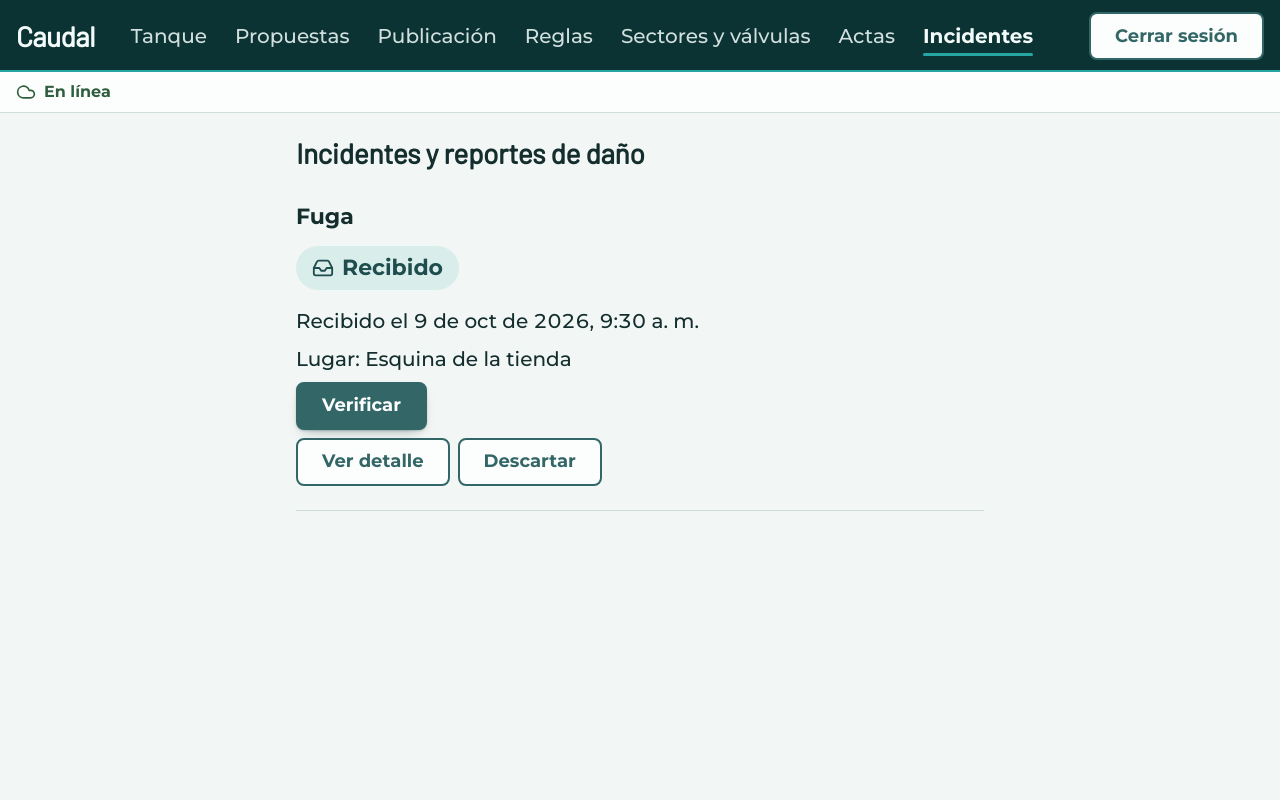
Test case: IncidentsPage (S21, board) › shows the description when the details are opened
Click the button "Ver detalle": (373, 462) x1=296 y1=438 x2=450 y2=486
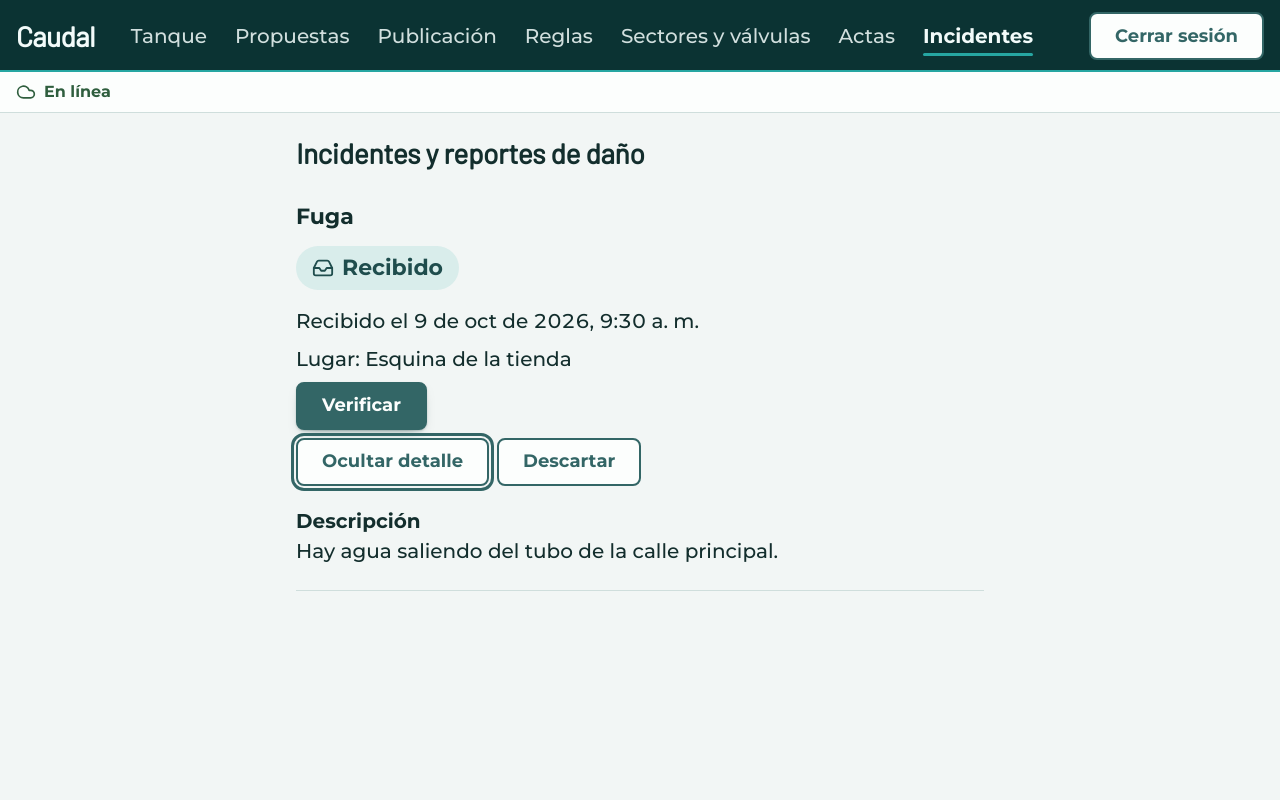
Expected: the text "Hay agua saliendo del tubo de la calle principal." is shown, x1=296 y1=539 x2=778 y2=563
